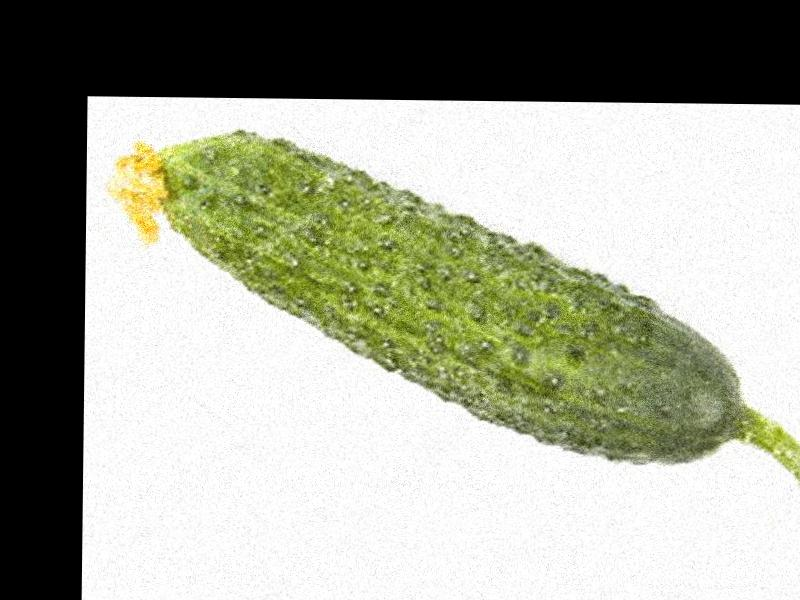Cucumber: (99, 127, 800, 559)
